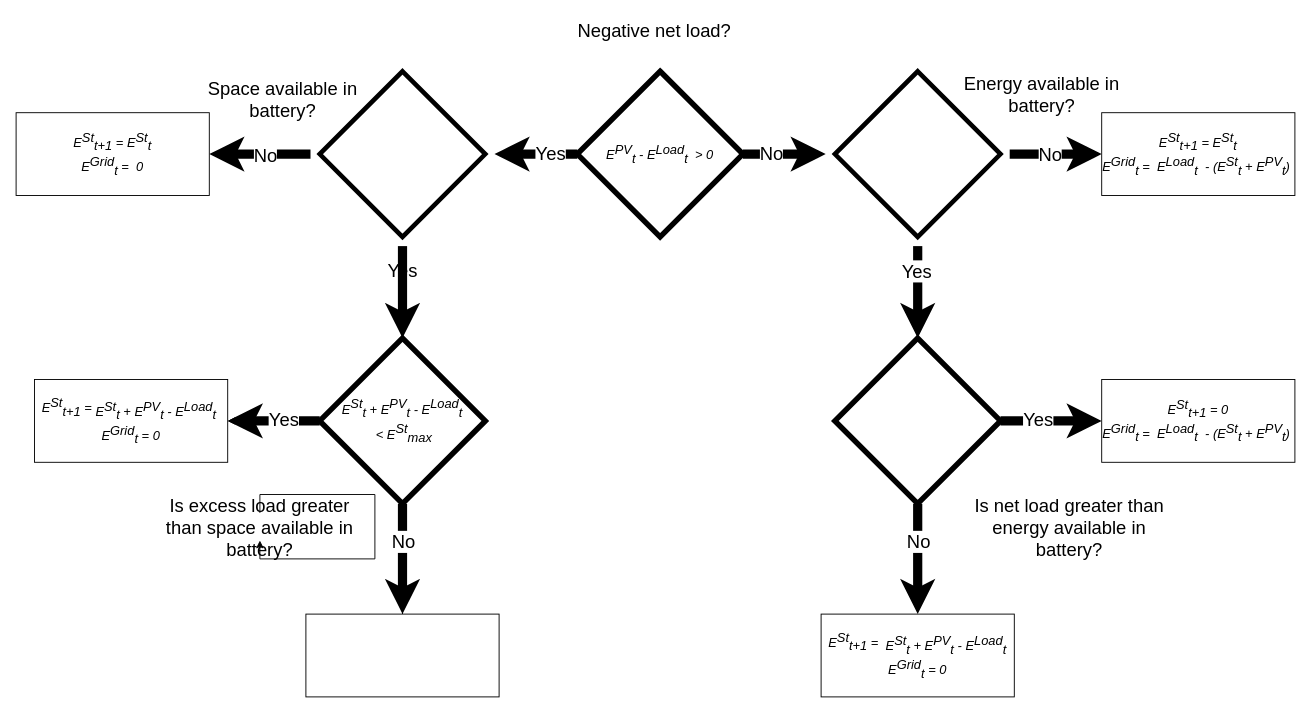
Some shapes in this 1311 by 713 pixel diagram are drawn without their labels. Here are the shapes that lost their labels. From the top down, the box of each, then its label:
(317, 69, 487, 239): E St t < E St max
(832, 69, 1002, 239): E St t > E St min
(832, 335, 1003, 506): E St t + E PV t - E Load t > E St min
(305, 613, 499, 697): E St t+1 = E St max E Grid t = 0
